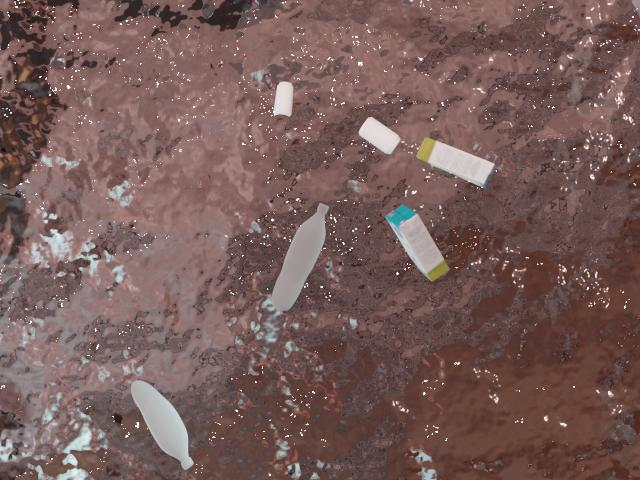Metal: (353, 106, 403, 160), (262, 79, 299, 128)
Plastic: (251, 195, 338, 319), (105, 374, 205, 471)
Trash: (378, 205, 458, 289), (416, 133, 499, 196)
